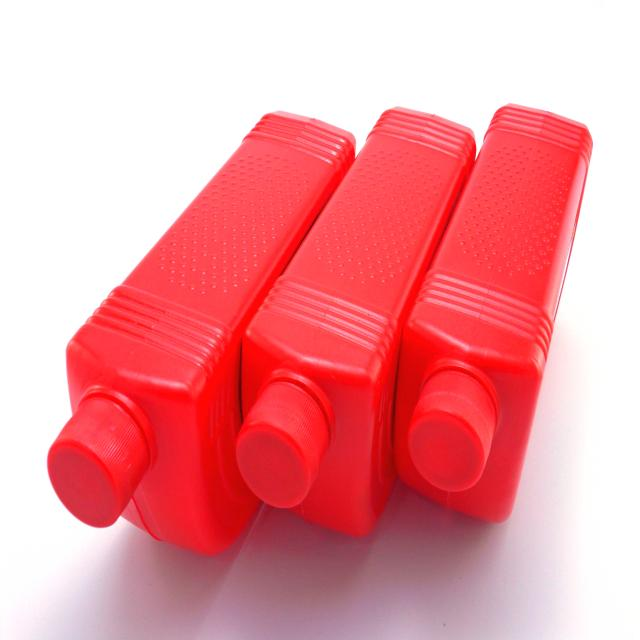plastic: (106, 110, 549, 530)
